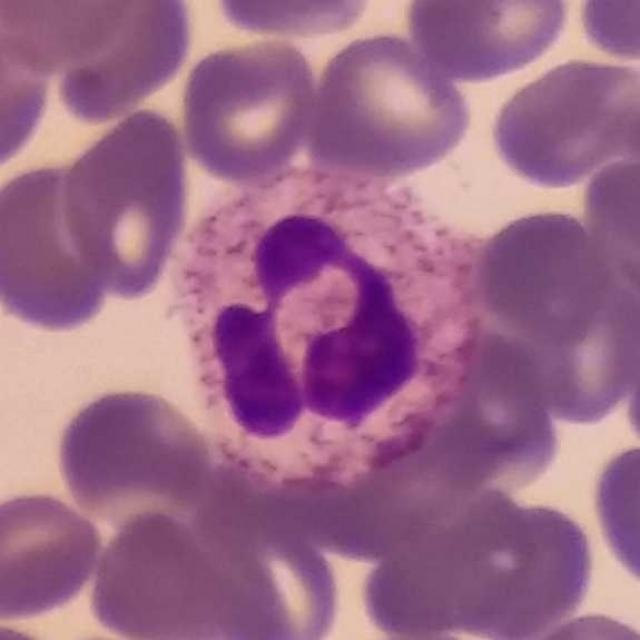Neutrophil: (166, 159, 482, 480)
RBC: (56, 104, 194, 302), (424, 486, 601, 639), (304, 28, 476, 179), (418, 330, 564, 496), (50, 381, 220, 521), (505, 254, 639, 428), (186, 498, 347, 640), (336, 415, 500, 553), (176, 33, 323, 184), (1, 157, 123, 336), (83, 506, 246, 639), (485, 54, 639, 192), (471, 204, 613, 346), (40, 0, 197, 125), (354, 512, 506, 640), (0, 486, 108, 624), (402, 0, 575, 83), (0, 12, 59, 185), (0, 0, 144, 69), (580, 147, 640, 289), (586, 439, 640, 594), (206, 0, 378, 41), (503, 607, 639, 640), (573, 0, 640, 66), (622, 328, 640, 466), (0, 615, 72, 640)
